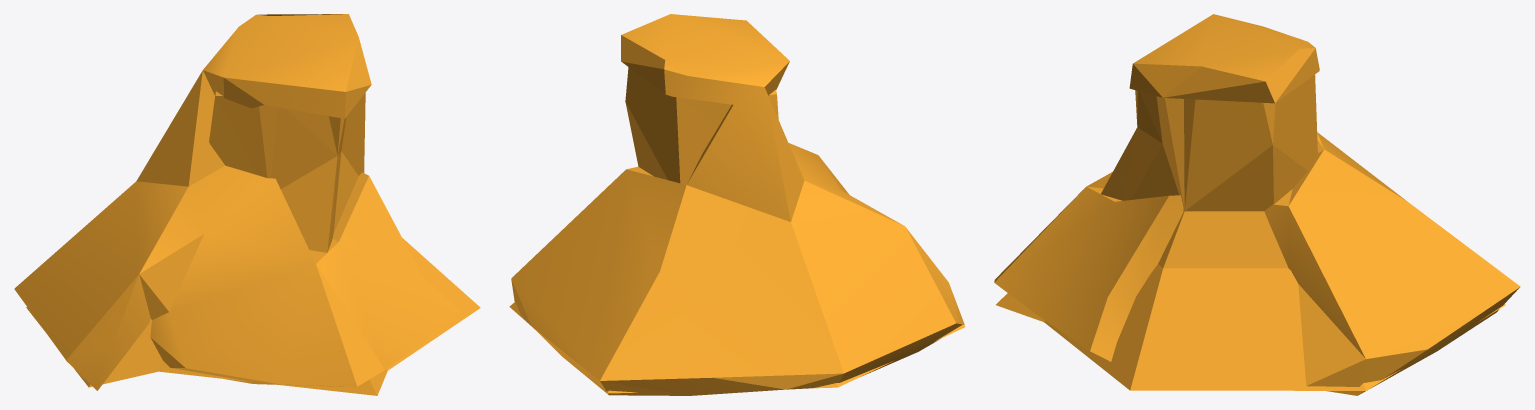
File: SM_Tree_Oak_Stump_A_Snow.fbx
3 renders of one model, left to right at view 1: azimuth 30°, elevation 25°; view 2: azimuth 150°, elevation 25°; view 3: azimuth 270°, elevation 25°, orthographic. The views are drawn at different scales.
Visible parts, largest first — view 1: tree-oak-stump-a-snow; view 2: tree-oak-stump-a-snow; view 3: tree-oak-stump-a-snow.
Part boxes in pixels (bbox=[...]): tree-oak-stump-a-snow: bbox=[14, 14, 480, 395]; tree-oak-stump-a-snow: bbox=[509, 14, 965, 395]; tree-oak-stump-a-snow: bbox=[994, 14, 1520, 395].
Size of the model in its own units: 1.71 by 1.17 by 1.94.
